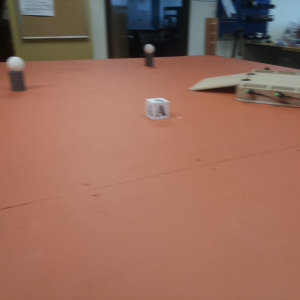blockA: (140, 93, 171, 123)
corner: (200, 15, 220, 60)
obstacle: (140, 41, 163, 71), (8, 57, 25, 91)
side: (239, 88, 300, 106)
slope: (189, 73, 257, 85)
